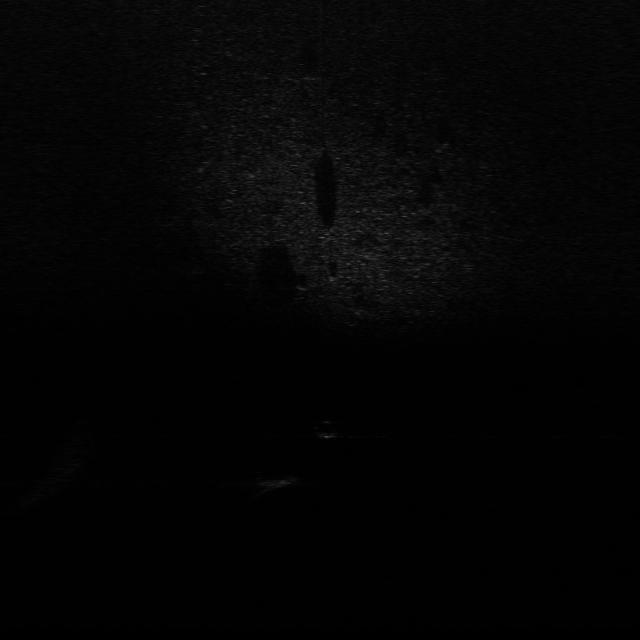ball: (308, 417, 344, 442)
square cage: (253, 470, 301, 490)
